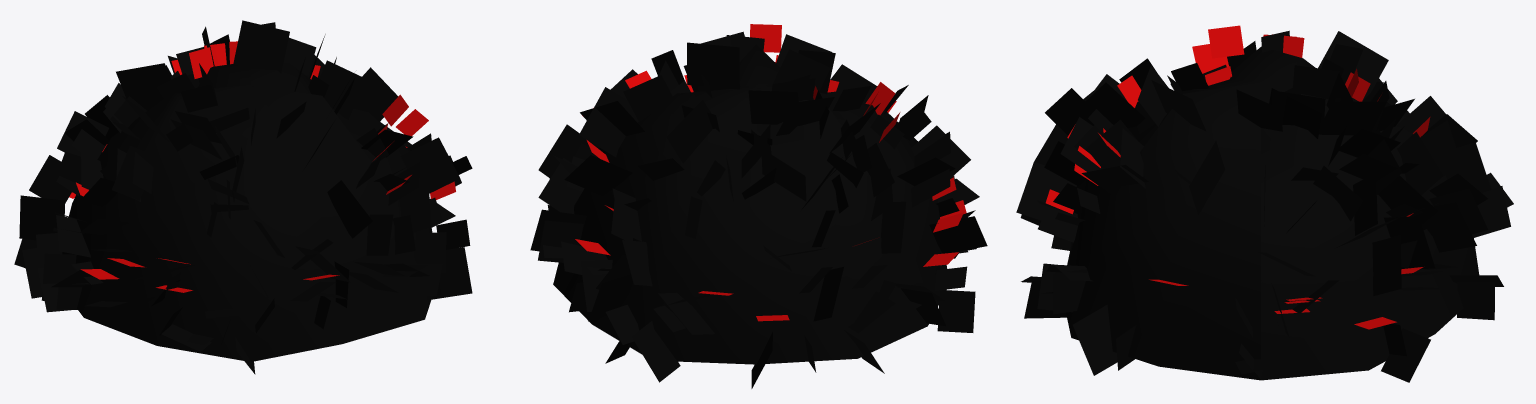
File: cushion.glb
3 renders of one model, left to right at view 1: azimuth 30°, elevation 25°; view 2: azimuth 150°, elevation 25°; view 3: azimuth 270°, elevation 25°, orthographic. The views are drawn at different scales.
Parts seen in each view (by area): view 1: lod0; view 2: lod0; view 3: lod0.
Boxes of the visible parts, x1,y1,x2,y2 form: lod0: (14, 20, 472, 374); lod0: (530, 24, 987, 388); lod0: (1016, 25, 1513, 382).
Size of what is drawn, in the model's own units: 1.2 by 0.7359 by 1.2.
